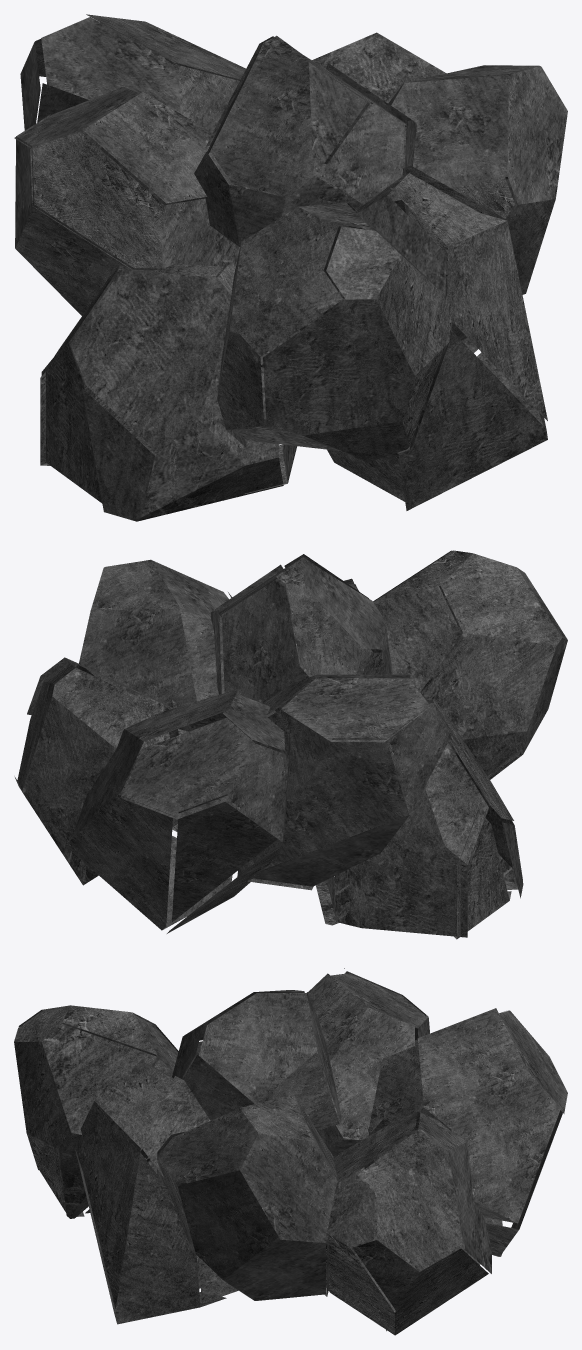
Rendered from Stone5.obj.
3 renders of one model, top to bottom at view 1: azimuth 30°, elevation 25°; view 2: azimuth 150°, elevation 25°; view 3: azimuth 270°, elevation 25°, orthographic. The views are drawn at different scales.
Parts seen in each view (by area): view 1: Object015; view 2: Object015; view 3: Object015.
Boxes of the visible parts, box(x1,y1,x2,y2) form: Object015: box(14, 14, 567, 521); Object015: box(14, 550, 567, 939); Object015: box(14, 968, 567, 1335).
Size of the model in its own units: 169 by 130 by 214.
Materials: 1 (1 with a texture image).
